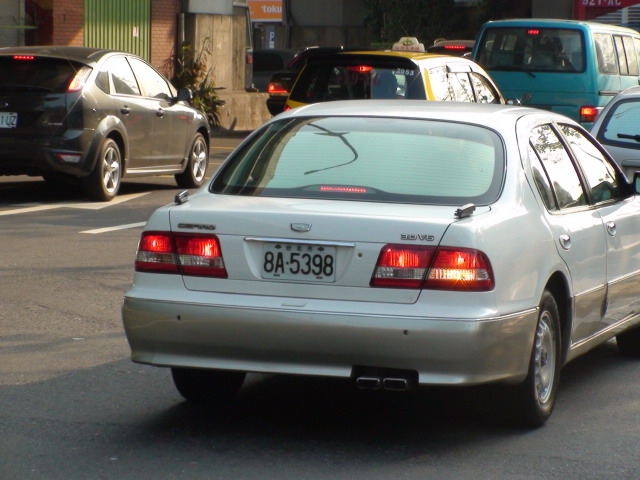plate: (260, 241, 339, 285)
